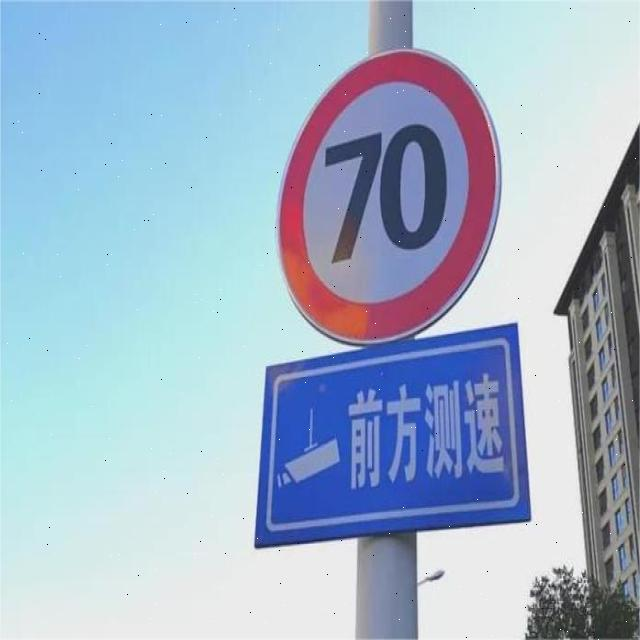speed limit 70: (275, 52, 502, 348)
